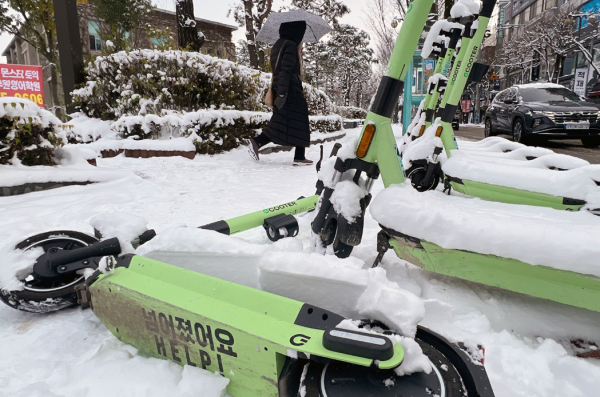fallin_kick: (10, 189, 494, 397)
kick_body: (383, 214, 600, 298)
kick_wheel: (452, 174, 600, 210), (315, 176, 363, 254), (402, 159, 441, 191)
